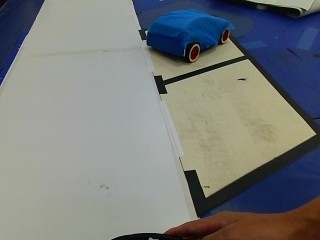car: (143, 7, 232, 65)
